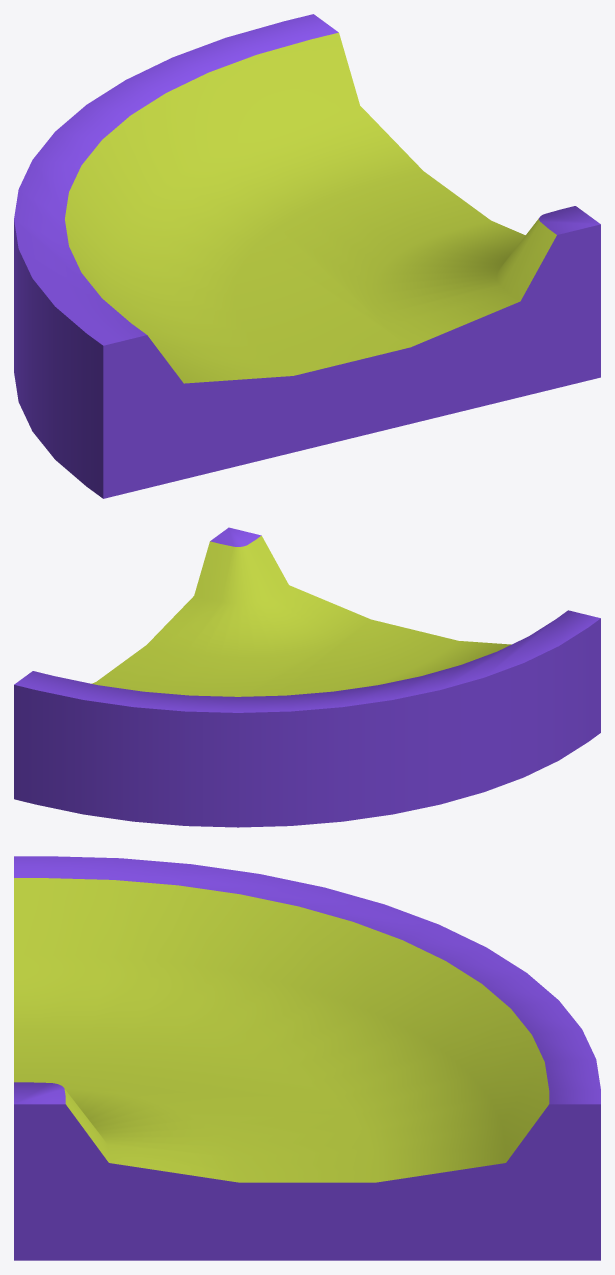
File: curve_wide-col.dae
3 views of the same model, one above another, from view 1: azimuth 30°, elevation 25°; view 2: azimuth 150°, elevation 25°; view 3: azimuth 270°, elevation 25° (orthographic). The views are drawn at different scales.
Visible parts, largest first — view 1: curve_wide-col; view 2: curve_wide-col; view 3: curve_wide-col.
Boxes of the visible parts, x1,y1,x2,y2 form: curve_wide-col: (14,14,600,498); curve_wide-col: (14,527,600,827); curve_wide-col: (14,856,600,1260).
Bounding box in the file's own units: 1.7 × 1.7 × 0.5.
